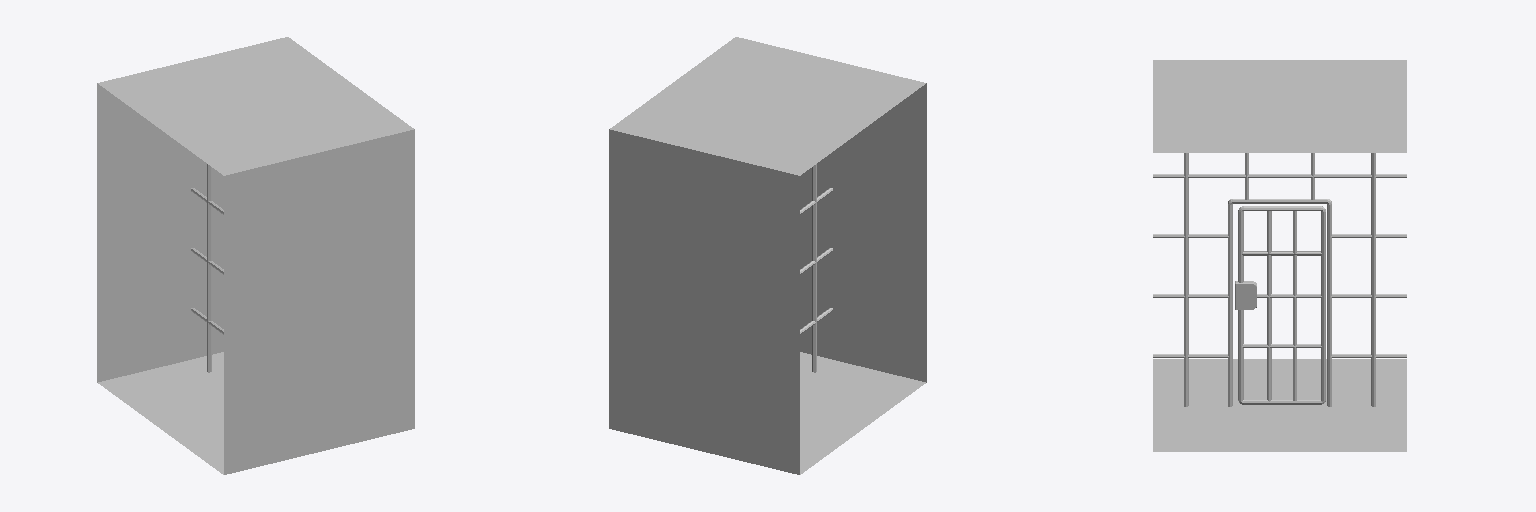
File: hor1 corr2 gate1.obj
The picture shows the model from 3 angles: view 1: azimuth 30°, elevation 25°; view 2: azimuth 150°, elevation 25°; view 3: azimuth 270°, elevation 25°; orthographic projection.
Parts seen in each view (by area): view 1: corr2_gate_Circle; view 2: corr2_gate_Circle; view 3: corr2_gate_Circle.
Boxes of the visible parts, x1,y1,x2,y2 form: corr2_gate_Circle: [97, 37, 414, 474]; corr2_gate_Circle: [609, 37, 926, 474]; corr2_gate_Circle: [1153, 60, 1406, 451].
Size of the model in its own units: 2 by 3 by 2.3.